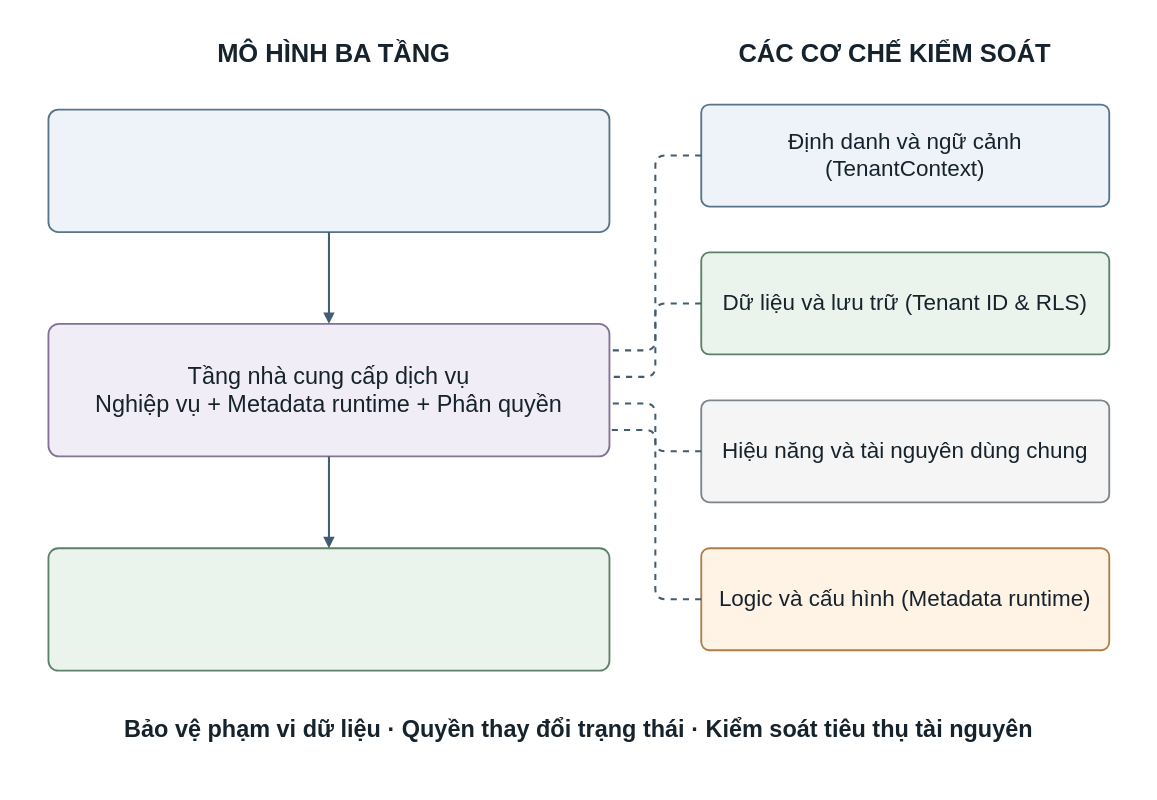
Image size: 1157x800. Some labels were removed from this diagram. The shapes that lost their labels are listed below. From the top down, each one's box as (x1, y1, x2, y2) in pixels, then its label:
(47, 108, 610, 232): Tầng người thuê Tenant A, B và các User thành viên
(47, 547, 610, 671): Tầng Instance và hạ tầng Web / App Server + Database Server
